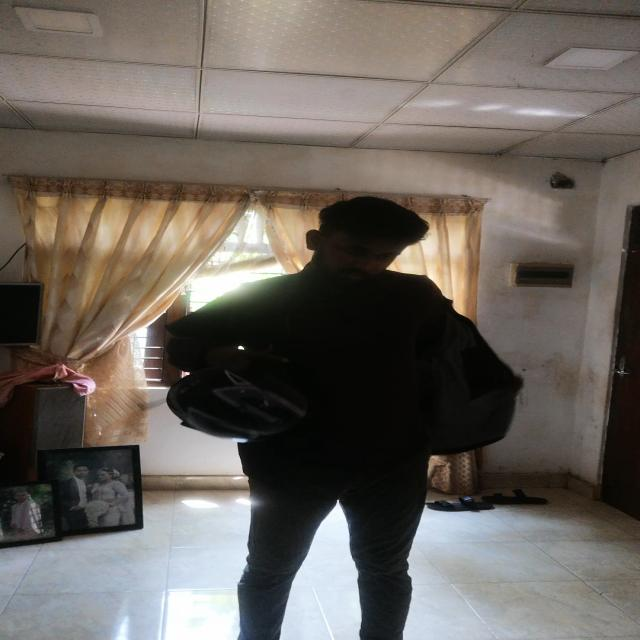Jacket_Wearer: (168, 269, 524, 508)
Person: (164, 191, 521, 640)
